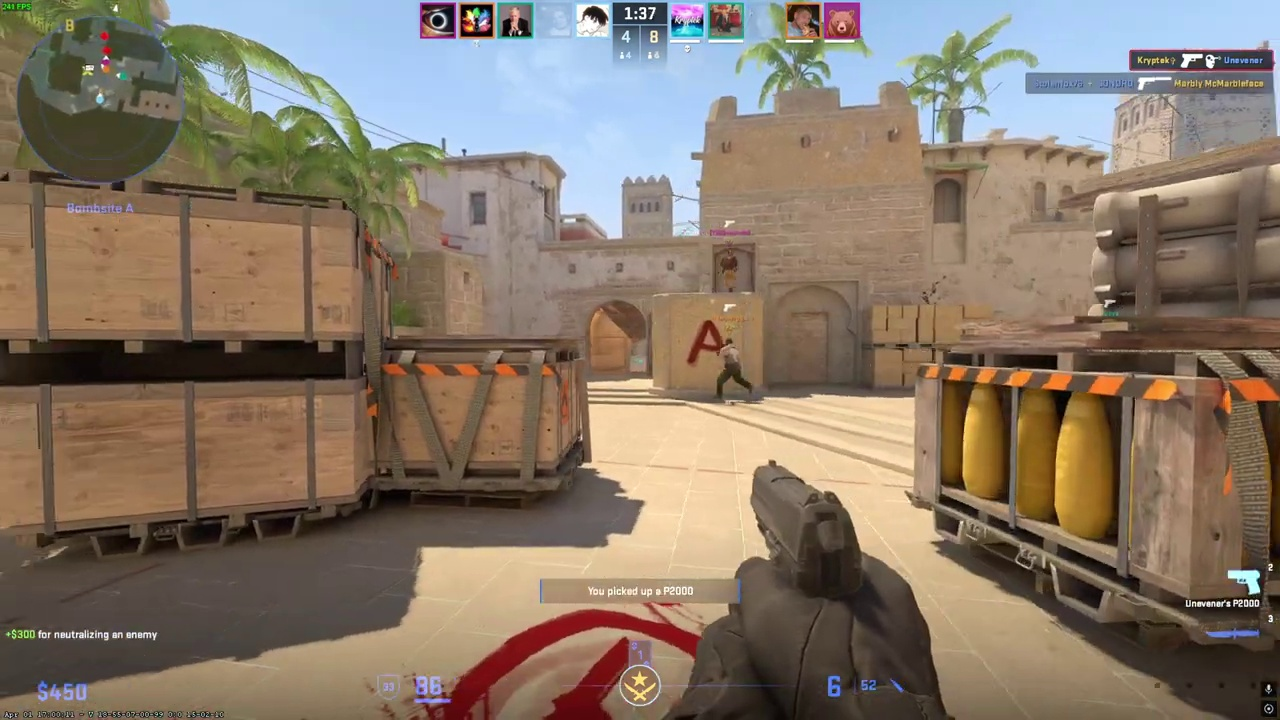Terrorist: (714, 338, 751, 399), (720, 249, 738, 293)
